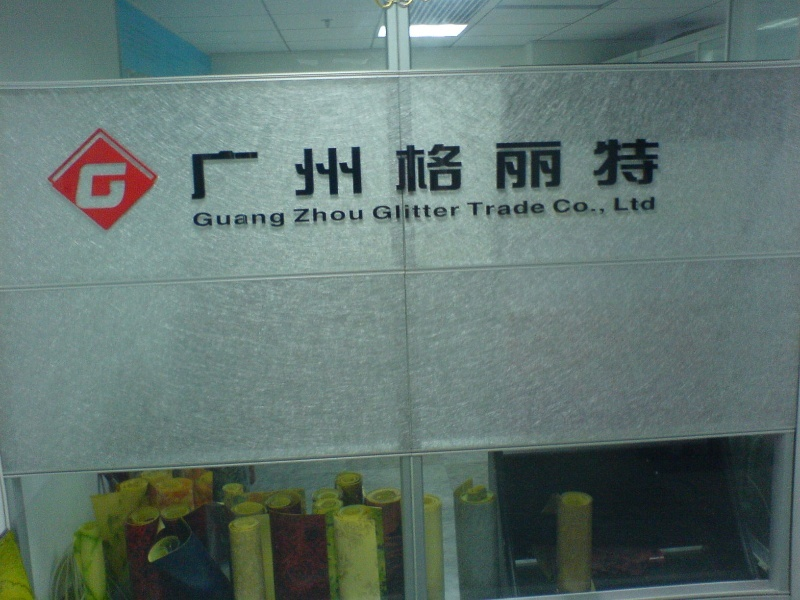text: (193, 136, 208, 201), (209, 136, 224, 201), (225, 136, 240, 201), (241, 136, 256, 201), (257, 136, 272, 201), (273, 136, 288, 201), (289, 136, 304, 201), (305, 136, 320, 201), (321, 136, 336, 201), (337, 136, 352, 201), (353, 136, 368, 201), (369, 136, 384, 201), (385, 136, 400, 201), (401, 136, 416, 201), (417, 136, 432, 201), (433, 136, 448, 201), (449, 136, 464, 201), (465, 136, 480, 201), (481, 136, 496, 201), (497, 136, 512, 201), (513, 136, 528, 201), (529, 136, 544, 201), (545, 136, 560, 201), (561, 136, 576, 201), (577, 136, 592, 201), (593, 136, 608, 201), (609, 136, 624, 201), (625, 136, 640, 201), (641, 136, 656, 201), (81, 161, 96, 211), (97, 161, 112, 211), (113, 161, 128, 211), (657, 136, 664, 201), (73, 161, 80, 211), (193, 209, 208, 232), (209, 209, 224, 232), (225, 209, 240, 232), (241, 209, 256, 232), (257, 209, 272, 232), (305, 205, 320, 226), (321, 205, 336, 226), (337, 205, 352, 226), (385, 202, 400, 222), (401, 202, 416, 222), (417, 202, 432, 222), (433, 202, 448, 222), (481, 199, 496, 219), (497, 199, 512, 219), (513, 199, 528, 219), (529, 199, 544, 219), (273, 209, 286, 232), (370, 202, 384, 222), (561, 199, 576, 217), (577, 199, 592, 217), (467, 199, 480, 219), (292, 205, 304, 226), (449, 202, 461, 222), (593, 199, 606, 217), (353, 205, 364, 226), (625, 197, 640, 212), (641, 197, 656, 212), (189, 136, 192, 201), (613, 197, 624, 212), (553, 199, 560, 217), (545, 199, 548, 219)
